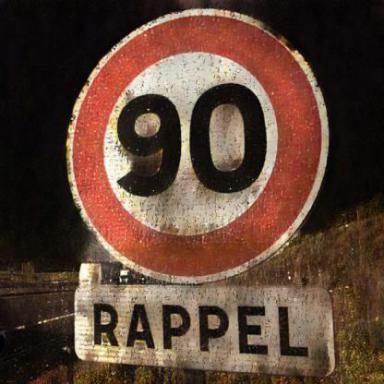Speed_limit_90: (75, 17, 319, 279)
